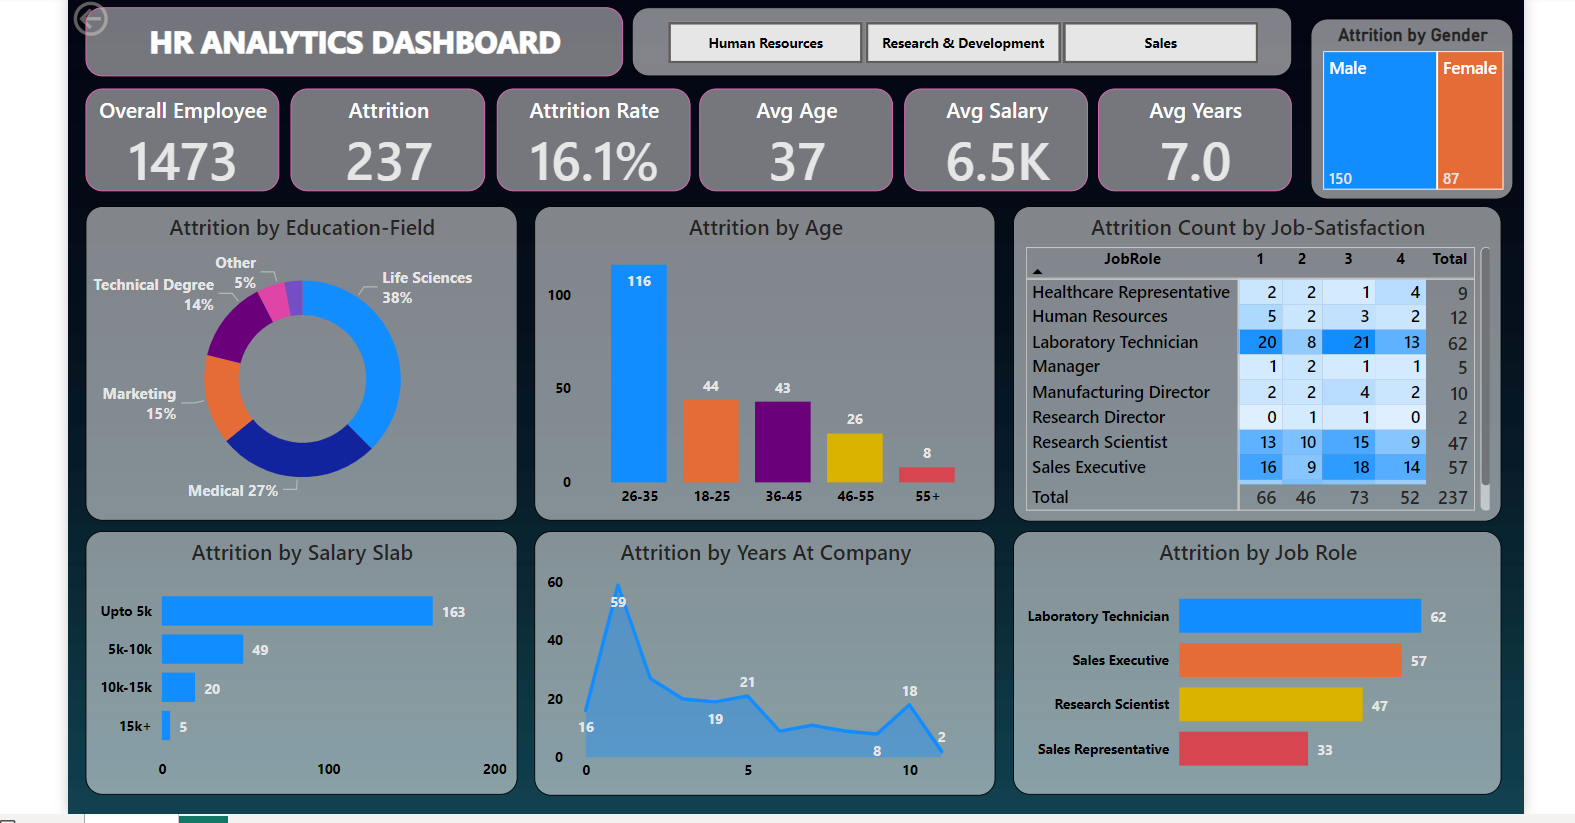

The dashboard page shown, as its layout file describes it:
{"tool":"powerbi","page":{"name":"Page 1","canvas":[1280,720],"ordinal":0},"visuals":[{"type":"card","title":"Overall Employee","fields":{"Values":["CountNonNull(HR_Analytics.EmployeeNumber)"]},"box":[15.1,80.9,170,90.5],"z":0},{"type":"card","title":"Attrition","fields":{"Values":["Sum(HR_Analytics.AttritionCount)"]},"box":[196.1,80.9,171.4,90.5],"z":1000},{"type":"card","title":"Attrition Rate","fields":{"Values":["HR_Analytics.AttritonRate"]},"box":[377,80.9,170,90.5],"z":2000},{"type":"card","title":"Avg  Age","fields":{"Values":["Avg(HR_Analytics.Age)"]},"box":[555.3,80.9,170,90.5],"z":3000},{"type":"card","title":"Avg Salary","fields":{"Values":["Avg(HR_Analytics.MonthlyIncome)"]},"box":[734.9,80.9,161.8,90.5],"z":4000},{"type":"card","title":" Avg Years ","fields":{"Values":["Avg(HR_Analytics.YearsAtCompany)"]},"box":[906.3,80.9,170,90.5],"z":5000},{"type":"actionButton","box":[0,0,100,40],"z":6000},{"type":"donutChart","title":" Attrition by Education-Field","fields":{"Category":["HR_Analytics.EducationField"],"Y":["Sum(HR_Analytics.AttritionCount)"]},"box":[15.1,185.1,379.8,277],"z":7000},{"type":"columnChart","title":" Attrition by Age","fields":{"Y":["Sum(HR_Analytics.AttritionCount)"],"Category":["HR_Analytics.AgeGroup"]},"box":[409.9,185.1,405.8,277],"z":8000},{"type":"pivotTable","title":"Attrition Count by Job-Satisfaction","fields":{"Rows":["HR_Analytics.JobRole"],"Columns":["HR_Analytics.JobSatisfaction"],"Values":["Sum(HR_Analytics.AttritionCount)"]},"box":[830.7,184.5,429.6,277.3],"z":9000},{"type":"barChart","title":" Attrition by Salary Slab","fields":{"Category":["HR_Analytics.SalarySlab"],"Y":["Sum(HR_Analytics.AttritionCount)"]},"box":[15.1,470.3,379.8,231.7],"z":10000},{"type":"areaChart","title":" Attrition by Years At Company","fields":{"Category":["HR_Analytics.YearsAtCompany"],"Y":["Sum(HR_Analytics.AttritionCount)"]},"box":[409.9,470.3,405.8,233.1],"z":11000},{"type":"barChart","title":" Attrition by Job Role","fields":{"Y":["Sum(HR_Analytics.AttritionCount)"],"Category":["HR_Analytics.JobRole"]},"box":[830.7,470.1,429.6,232.1],"z":12000},{"type":"treemap","title":" Attrition by Gender","fields":{"Group":["HR_Analytics.Gender"],"Values":["Sum(HR_Analytics.AttritionCount)"]},"box":[1092.5,20.2,178.5,159.5],"z":13000},{"type":"slicer","fields":{"Values":["HR_Analytics.Department"]},"box":[496.3,9.5,580.8,60.7],"z":14000},{"type":"textbox","box":[15.5,9.5,472.5,60.7],"z":15000}]}

Visuals, with their boxes in screenshot pixels (x1, y1, x2, y2):
"Overall Employee" card: 63/82/262/188
"Attrition" card: 275/82/475/188
"Attrition Rate" card: 486/82/685/188
"Avg  Age" card: 695/82/894/188
"Avg Salary" card: 905/82/1095/188
" Avg Years " card: 1106/82/1305/188
actionButton: 45/0/162/35
" Attrition by Education-Field" donutChart: 63/204/507/529
" Attrition by Age" columnChart: 525/204/1000/529
"Attrition Count by Job-Satisfaction" pivotTable: 1018/204/1521/528
" Attrition by Salary Slab" barChart: 63/538/507/810
" Attrition by Years At Company" areaChart: 525/538/1000/811
" Attrition by Job Role" barChart: 1018/538/1521/810
" Attrition by Gender" treemap: 1324/11/1533/198
slicer - HR_Analytics.Department: 626/0/1306/70
textbox: 63/0/616/70
